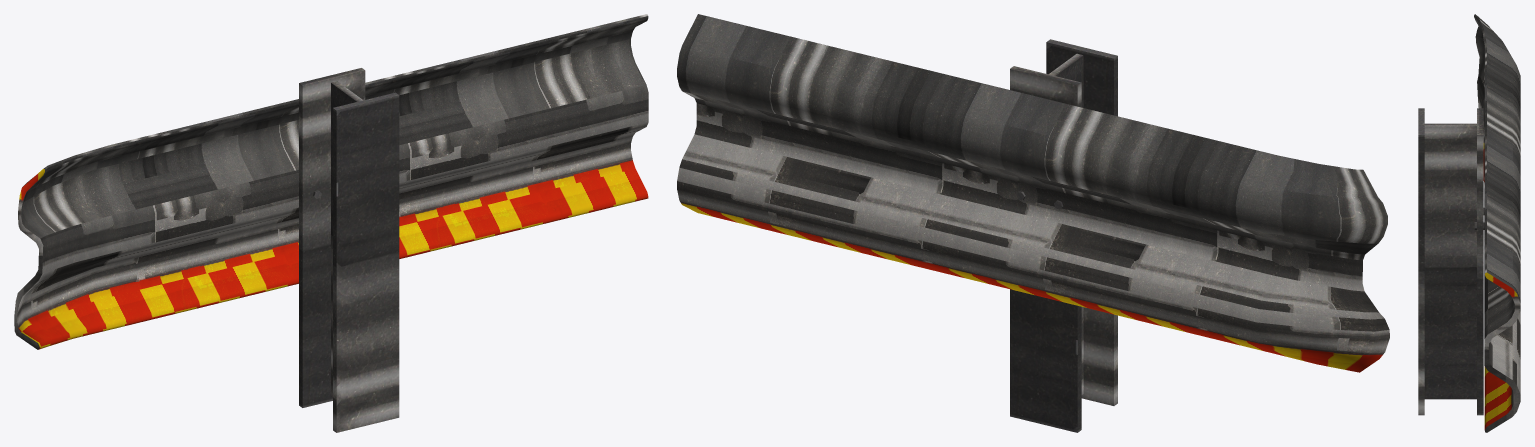
The model's file is Rail 10.FBX.
3 renders of one model, left to right at view 1: azimuth 30°, elevation 25°; view 2: azimuth 150°, elevation 25°; view 3: azimuth 270°, elevation 25°, orthographic. The views are drawn at different scales.
Parts seen in each view (by area): view 1: guardrail_end_right_b; view 2: guardrail_end_right_b; view 3: guardrail_end_right_b.
Boxes of the visible parts, x1,y1,x2,y2 form: guardrail_end_right_b: [14, 14, 648, 432]; guardrail_end_right_b: [677, 14, 1389, 432]; guardrail_end_right_b: [1418, 14, 1520, 432].
Bounding box in the file's own units: 208 × 101 × 33.42.
